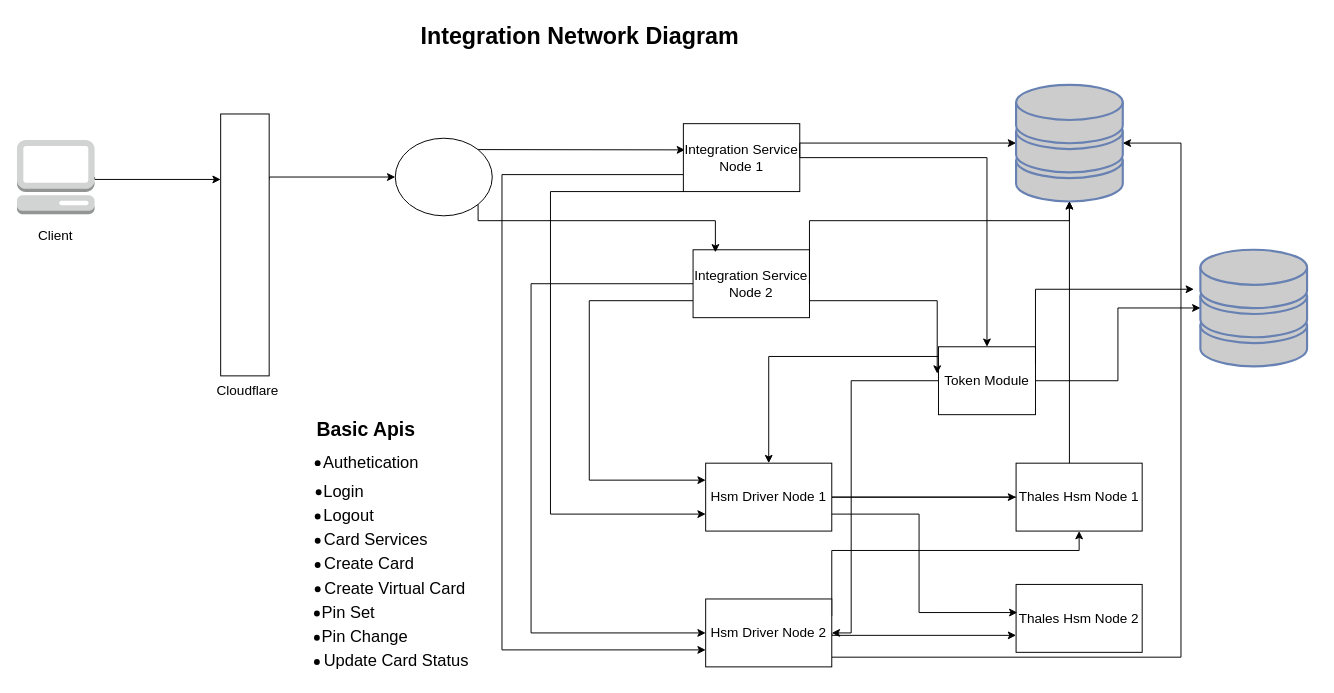
The diagram is 1334 pixels wide and 693 high, and some of its shapes have lost their labels. The box of each missing label's shape, as (x1, y1, x2, y2) in pixels:
Card Database: (1015, 83, 1123, 202)
Nginx: (394, 137, 492, 216)
Token Database: (1199, 248, 1308, 367)
